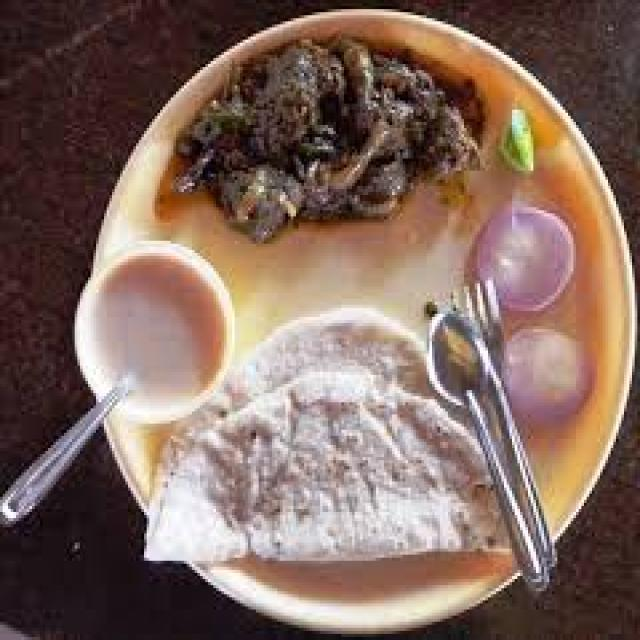RICE BHAKRI: (149, 311, 515, 563)
